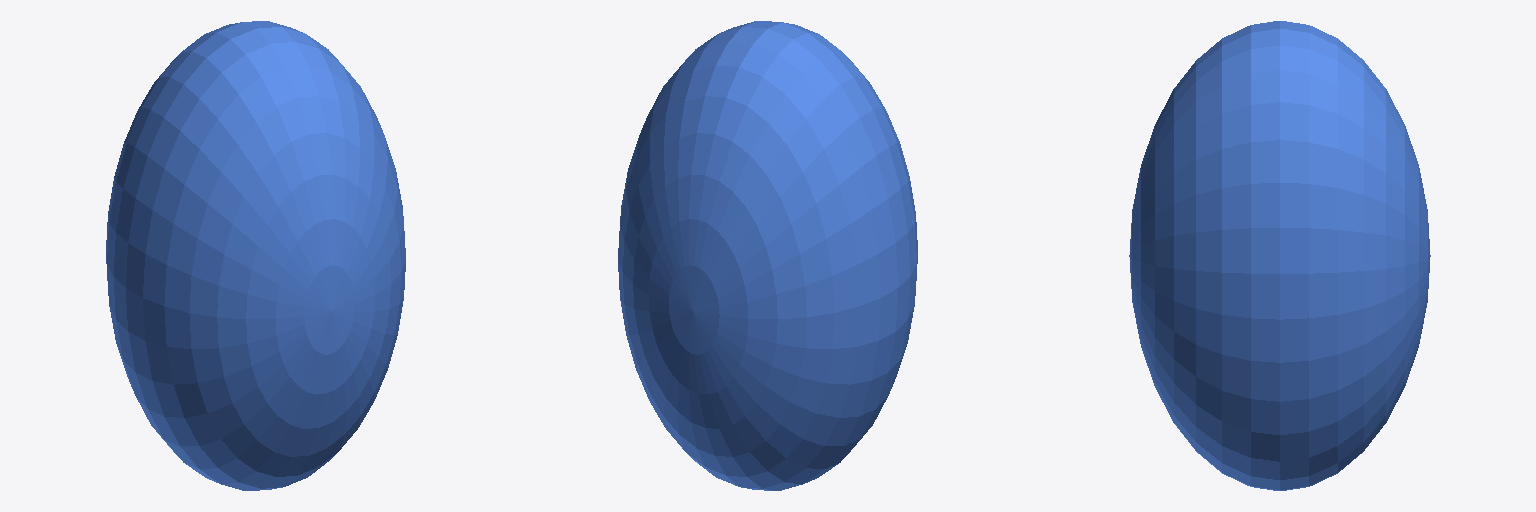
robot.urdf — fr3_link3_robot:
<?xml version="0.0" ?>
<robot name="fr3_link3_robot">
  <link name="base_link">
    <inertial>
      <origin rpy="0 0 0" xyz="0 0 0"/>
       <mass value=".1"/>
       <inertia ixx="1" ixy="0" ixz="0" iyy="1" iyz="0" izz="1"/>
    </inertial>
    
    <visual>
      <origin rpy="0 0 0" xyz="0 0 0.00"/>
      <geometry>
        <mesh filename="package://meshes/fr3_link4_ellipsoid.obj"/>
      </geometry>
      <material name="cornflowerblue">
        <color rgba="0.3921 0.5843 0.9294 0.8"/>
      </material>
    </visual>
  </link>
</robot>

--- What the picture shows (computed from the rendered views, not written in the file) ---
Views: 3 orthographic renders of the robot side by side, from view 1: azimuth 30°, elevation 25°; view 2: azimuth 150°, elevation 25°; view 3: azimuth 270°, elevation 25°.
Model fr3_link3_robot with 1 links and 0 joints (none), rooted at base_link, posed all joints at 0.
Links seen in each view (by area): view 1: base_link; view 2: base_link; view 3: base_link.
Boxes of the visible links, x1=… form: base_link: x1=106, y1=21, x2=405, y2=490; base_link: x1=618, y1=21, x2=917, y2=490; base_link: x1=1129, y1=21, x2=1430, y2=490.
Bounding box of the posed robot: 0.18 × 0.18 × 0.3 m (x, y, z).
1 mesh visuals loaded from 1 distinct referenced files (1 OBJ).